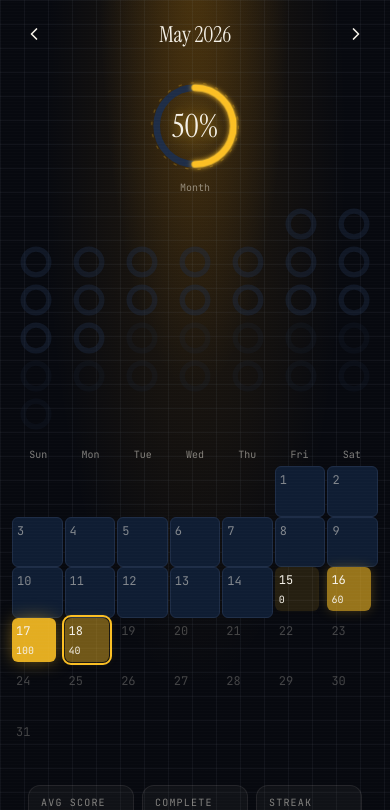
it: C-m9c-011: MonthView — first-run/future month renders without crash › navigating to a wholly future month renders all inert cells without crash
This screenshot has width=390, height=810.
Click the button named "Next month": (356, 34) [334, 12, 378, 56]
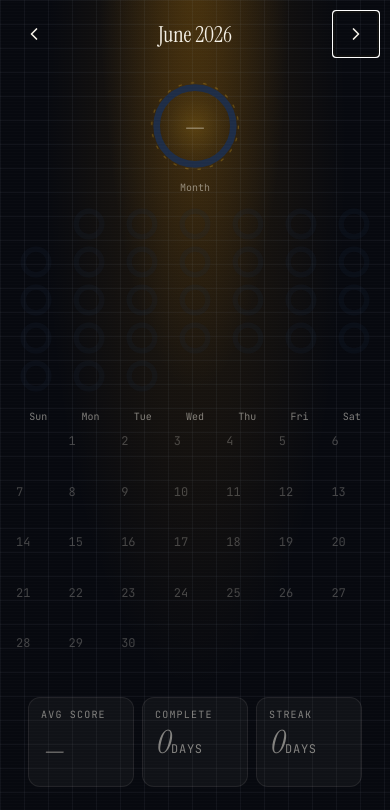
Click the button named "Next month": (356, 34) [334, 12, 378, 56]
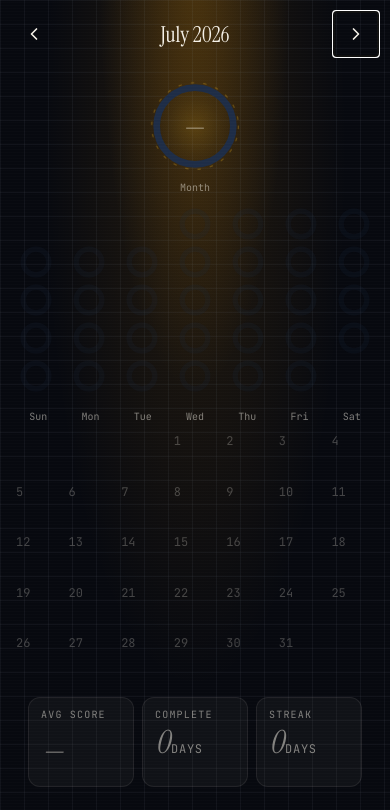
Click the button named "Next month": (356, 34) [334, 12, 378, 56]
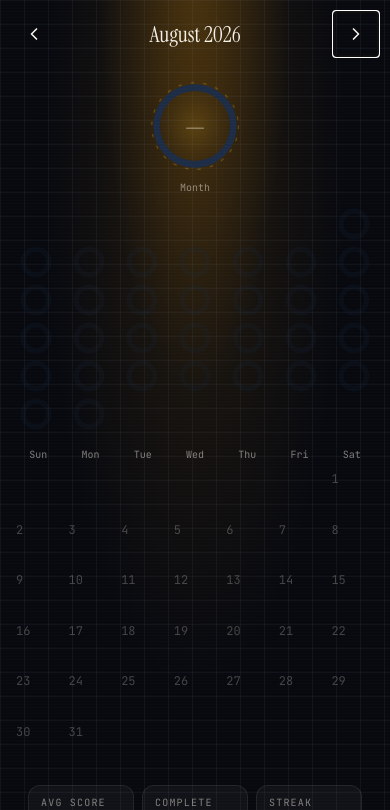
Check: the table is shown, box [12, 443, 378, 770]
Check: the heading "August 2026" is shown, box [149, 18, 241, 50]
